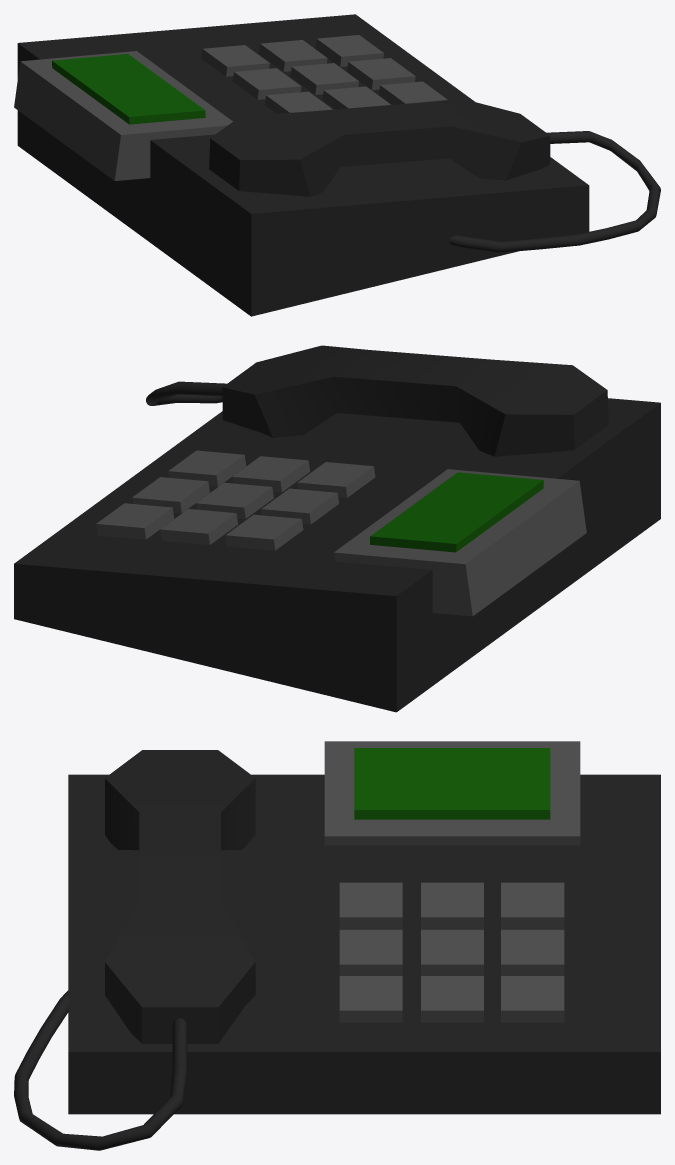
Rendered from Phone.fbx.
The picture shows the model from 3 angles, top to bottom: view 1: azimuth 30°, elevation 25°; view 2: azimuth 150°, elevation 25°; view 3: azimuth 270°, elevation 25°; orthographic projection. The views are drawn at different scales.
Visible parts, largest first — view 1: Phone; view 2: Phone; view 3: Phone.
Part boxes in pixels (x1=…): Phone: x1=14, y1=14, x2=660, y2=316; Phone: x1=14, y1=345, x2=660, y2=712; Phone: x1=14, y1=741, x2=660, y2=1150.
Size of the model in its own units: 1.8 by 0.4949 by 1.73.
